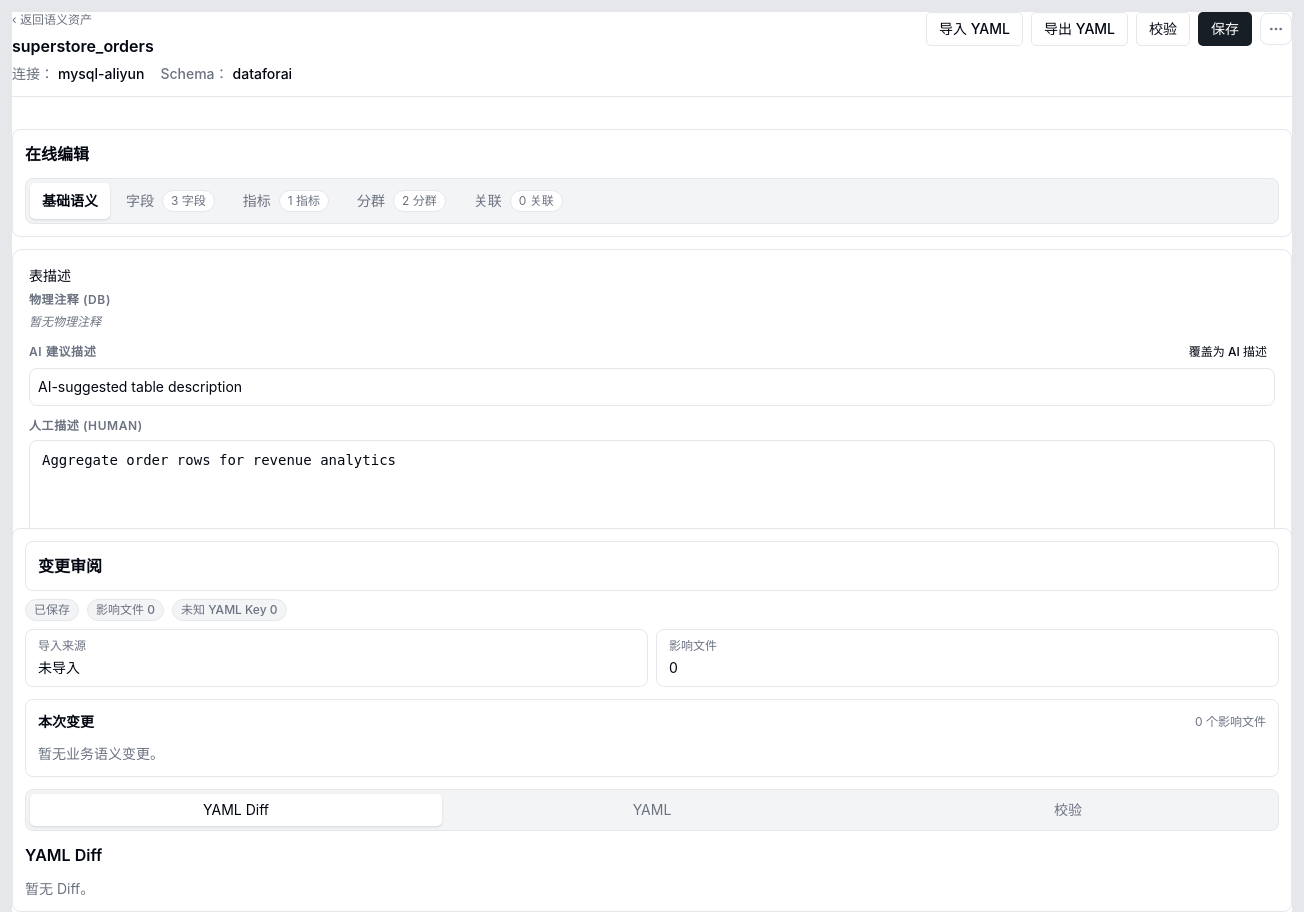
TableEditor › uses a single page header action group and keeps secondary links in more
Expected: the number of buttons "导出 YAML" is 1, [1031,12,1128,46]
Expected: the number of buttons "导入 YAML" is 1, [926,12,1023,46]
Click the button with test id "row-more-trigger". click: (1276, 29)
box: [1260,13,1292,45]
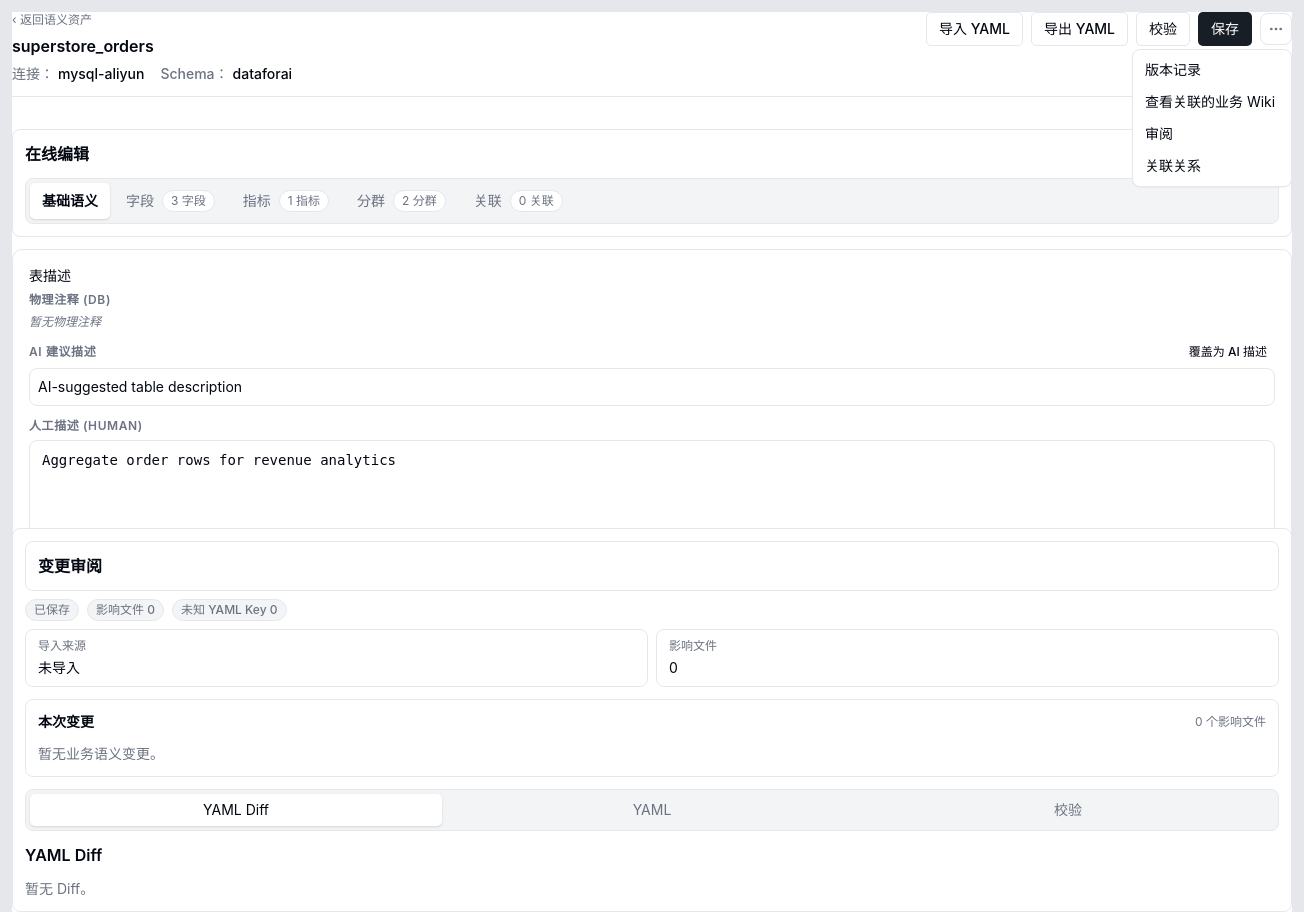
Expected: the menu item with test id "table-editor-more-versions" reads "版本记录", [1133,54,1291,86]
Expected: the menu item with test id "table-editor-more-wiki" reads "查看关联的业务 Wiki", [1145,93,1275,110]
Expected: the menu item with test id "table-editor-more-review" reads "审阅", [1145,125,1173,142]
